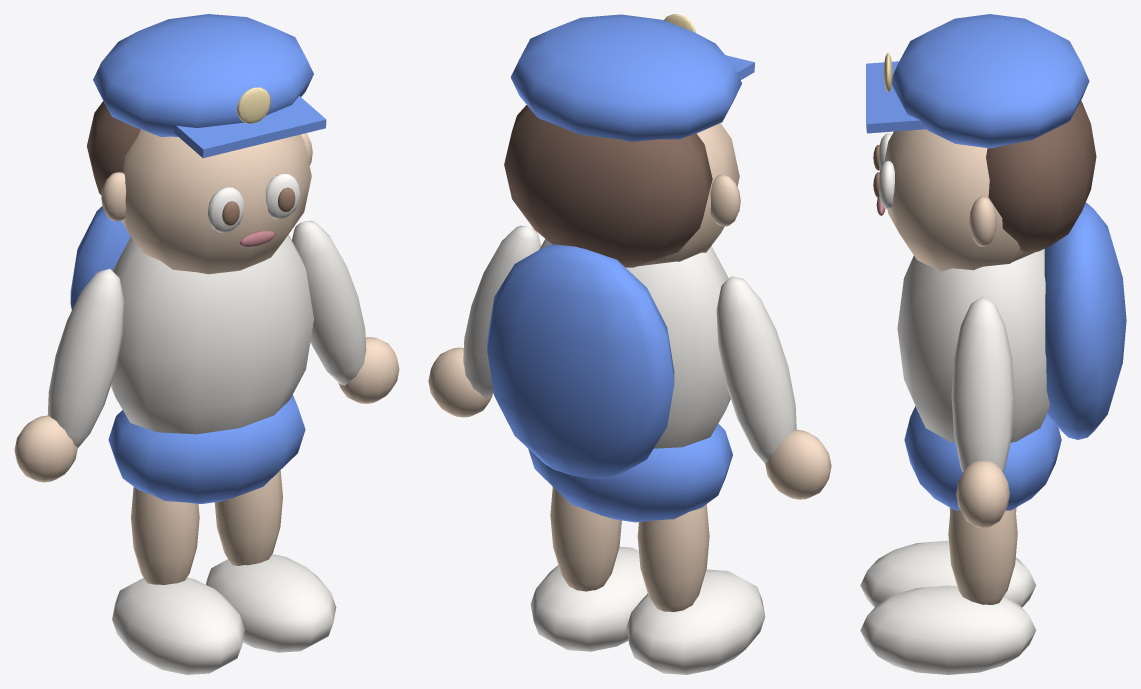
File: char_chakchaki_lod2_v100.glb
3 renders of one model, left to right at view 1: azimuth 30°, elevation 25°; view 2: azimuth 150°, elevation 25°; view 3: azimuth 270°, elevation 25°, orthographic. The views are drawn at different scales.
Visible parts, largest first — view 1: Hoodie, Cap, Shoes, Head, Arms, Shorts, Legs, Hands, Backpack, Eyes, Hair, Ears (+1 smaller); view 2: Backpack, Cap, Hair, Shoes, Arms, Hoodie, Legs, Shorts, Hands, Head, Ears; view 3: Cap, Hoodie, Shoes, Backpack, Head, Hair, Arms, Shorts, Legs, Hands, Eyes, Ears.
Boxes of the visible parts, <box> form: Hoodie: <box>111,235,313,434</box>; Cap: <box>93,14,326,158</box>; Shoes: <box>112,554,336,674</box>; Head: <box>121,129,311,274</box>; Arms: <box>47,220,366,447</box>; Shorts: <box>108,395,305,503</box>; Legs: <box>131,470,282,584</box>; Hands: <box>14,337,399,482</box>; Backpack: <box>70,206,130,309</box>; Eyes: <box>207,173,300,232</box>; Hair: <box>87,101,140,194</box>; Ears: <box>101,133,312,221</box>; Backpack: <box>487,244,674,479</box>; Cap: <box>510,14,754,141</box>; Hair: <box>504,105,712,267</box>; Shoes: <box>530,547,765,674</box>; Arms: <box>463,225,796,463</box>; Hoodie: <box>539,239,730,448</box>; Legs: <box>550,487,709,612</box>; Shorts: <box>528,424,732,522</box>; Hands: <box>428,347,831,499</box>; Head: <box>638,123,739,266</box>; Ears: <box>710,175,740,226</box>; Cap: <box>866,14,1089,148</box>; Hoodie: <box>897,249,1049,442</box>; Shoes: <box>860,540,1036,674</box>; Backpack: <box>1044,203,1126,439</box>; Head: <box>884,129,1035,271</box>; Hair: <box>986,101,1096,251</box>; Arms: <box>951,296,1014,472</box>; Shorts: <box>904,406,1061,510</box>; Legs: <box>948,507,1017,604</box>; Hands: <box>956,461,1009,528</box>; Eyes: <box>873,133,894,209</box>; Ears: <box>969,196,996,246</box>.
Bounding box in the file's own units: 0.956 × 1.46 × 0.575.
